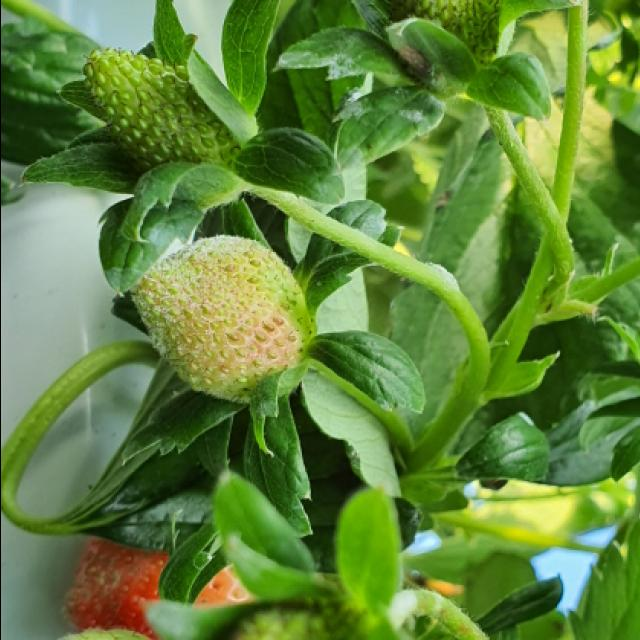Powdery Mildew Fruit: (127, 234, 309, 405)
